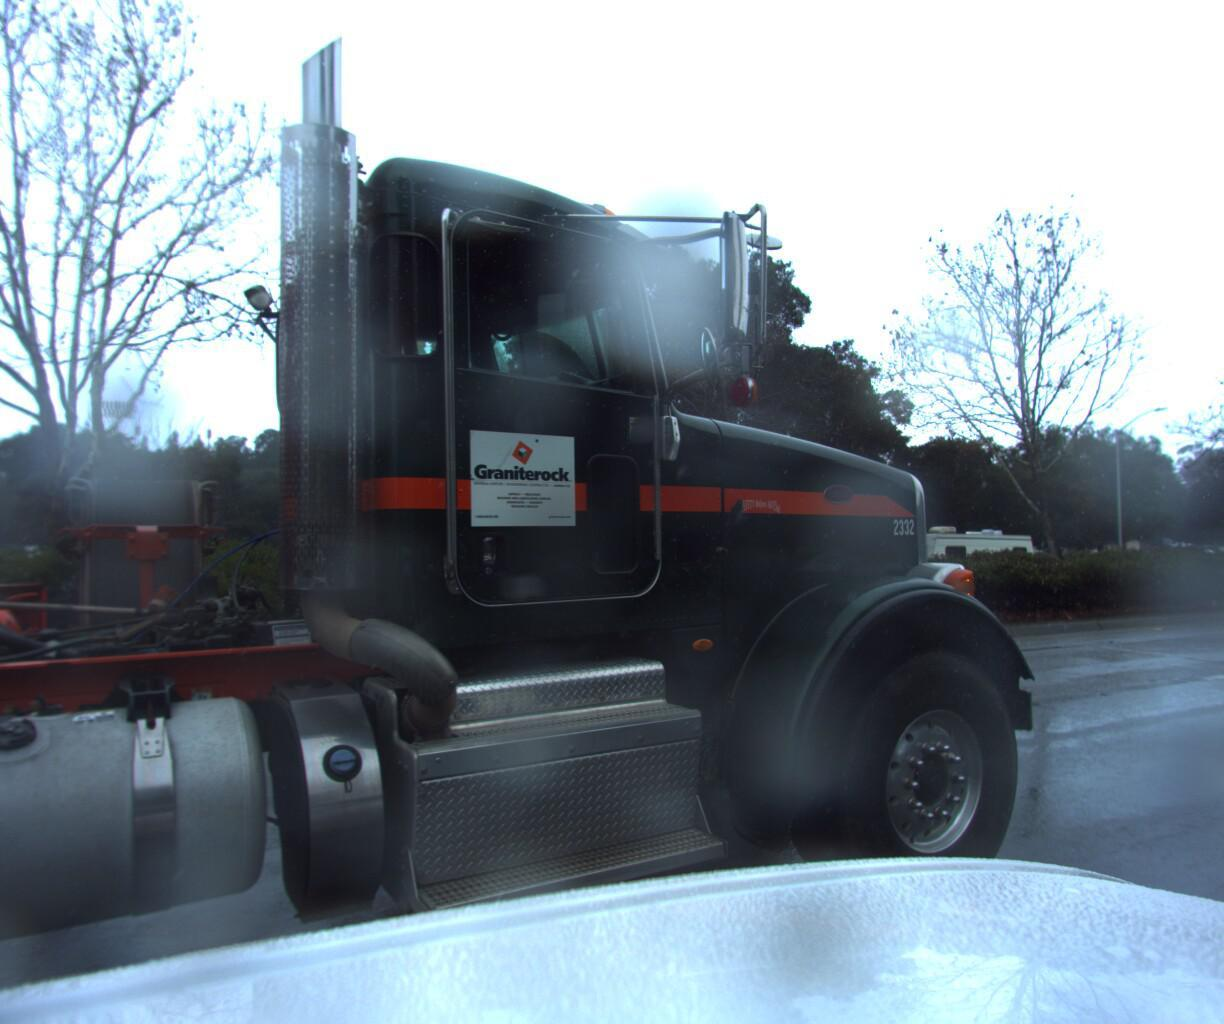other_vehicle: (877, 513, 1057, 593)
